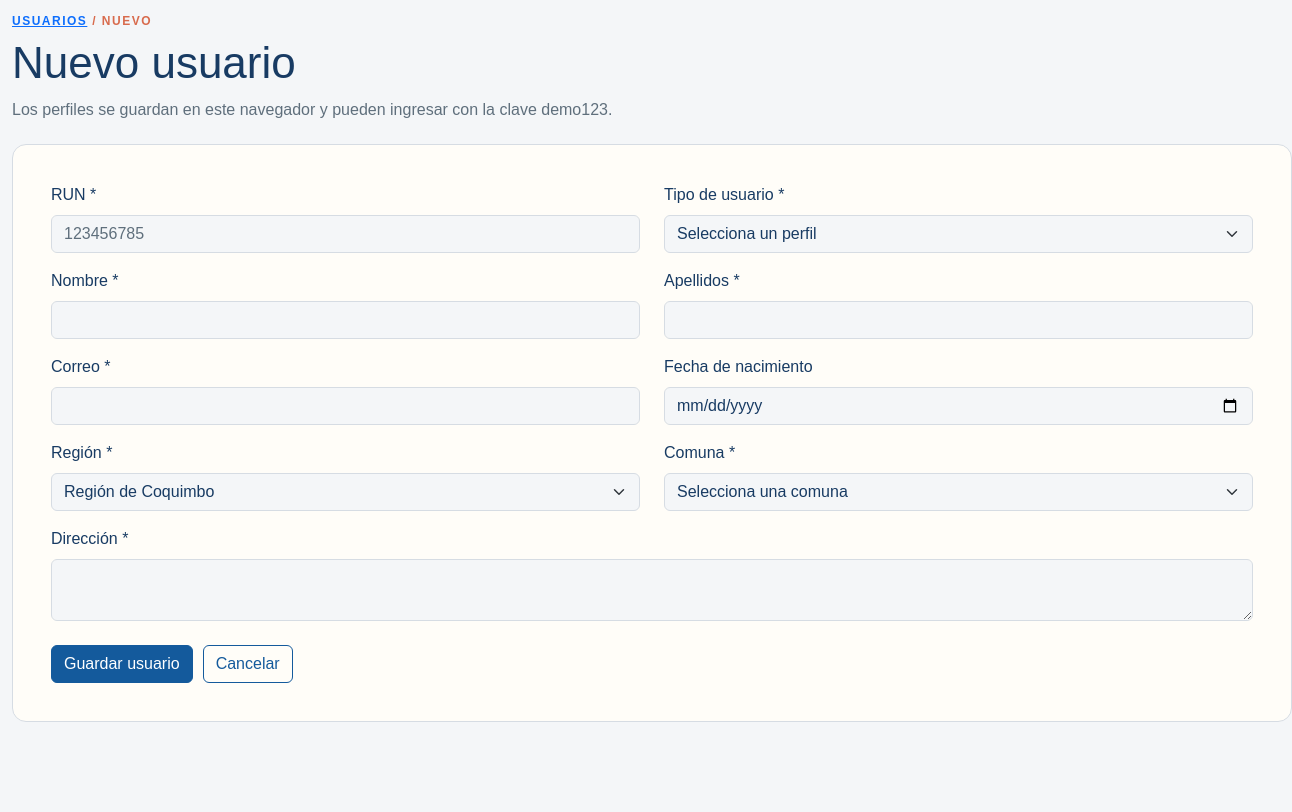
Scenario: AdminUsuarioFormContainer › normaliza el RUN al salir del campo
The image size is (1292, 812).
In the field labelled "RUN *": (346, 234) [51, 215, 640, 253], type "11.111.111-1"
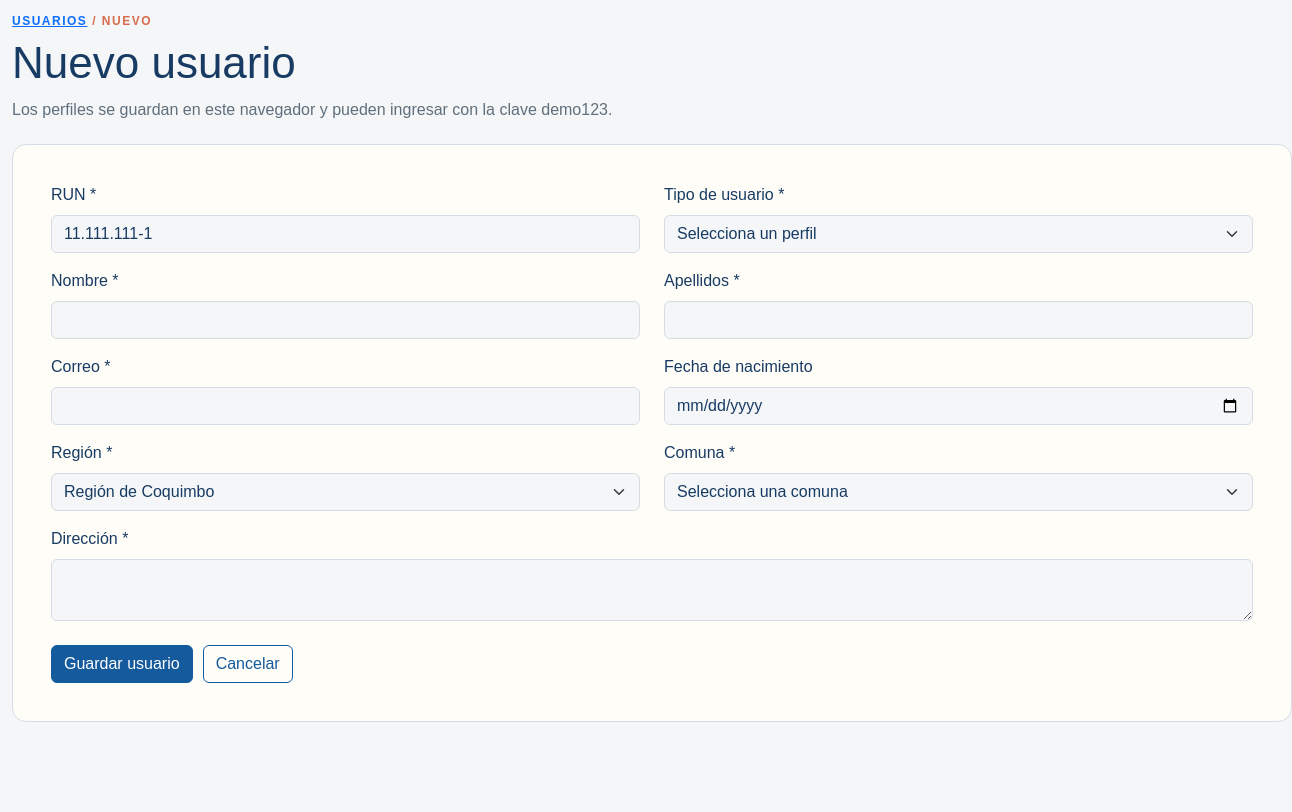
Leave the field labelled "RUN *", box [51, 215, 640, 253]
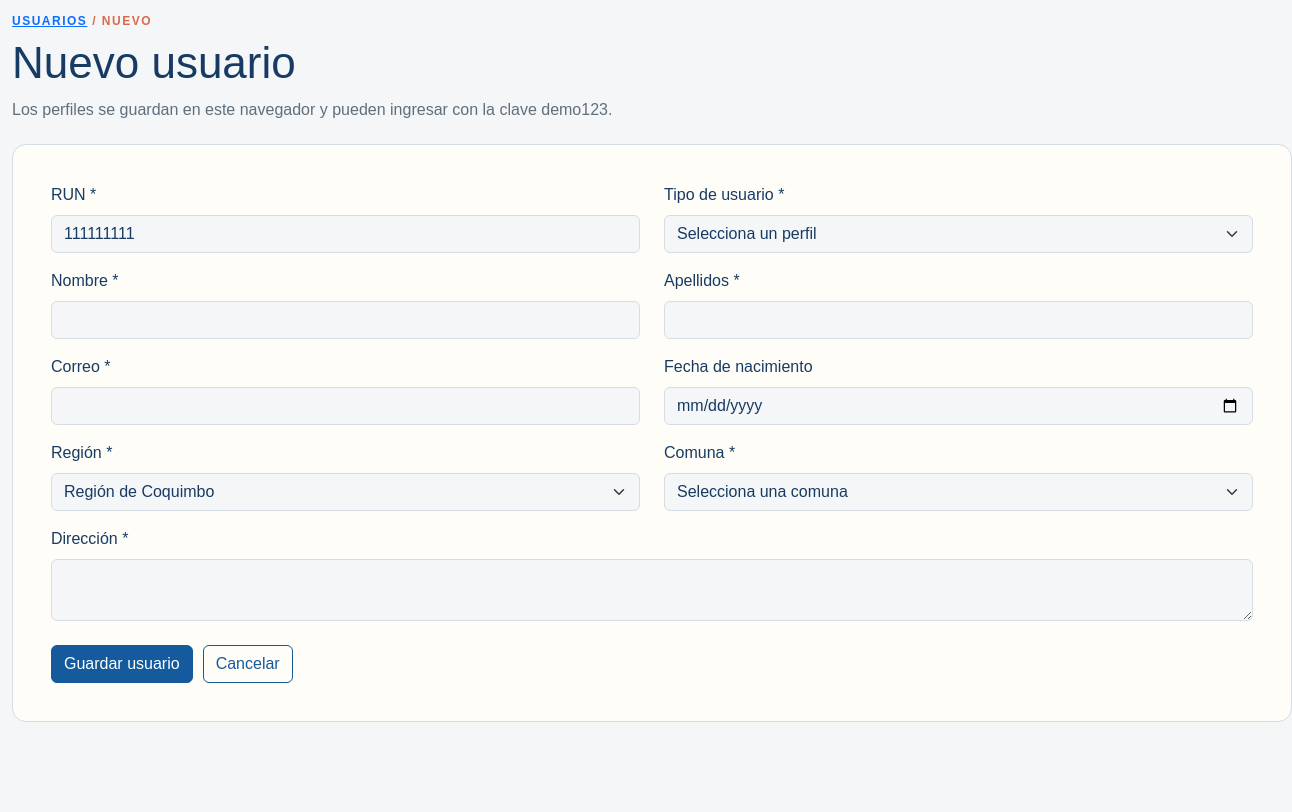
Check: the field labelled "RUN *" holds "111111111", box [51, 215, 640, 253]
